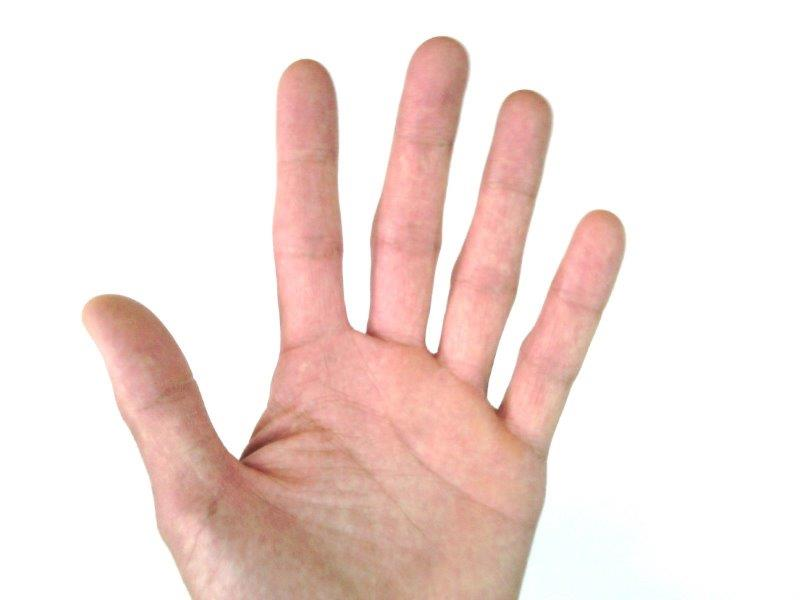hand: (81, 35, 624, 596)
